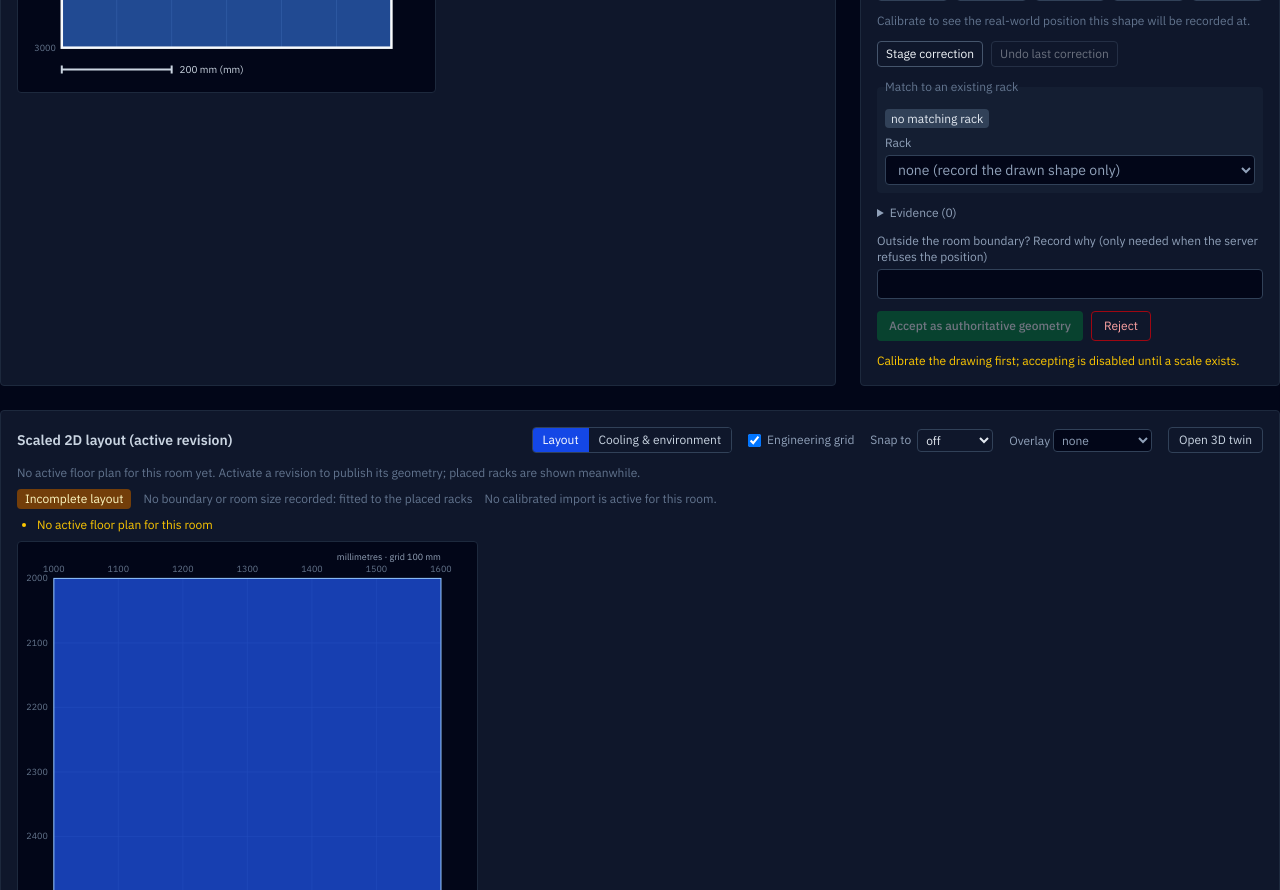
Scenario: RoomFloorPlanPage workflow › switches the 2D plan to an operational overlay and links to the 3D twin for this room
(page scrolled)
Select "Power" in the dropdown named "Operational overlay": (1102, 440) [1053,428,1152,452]
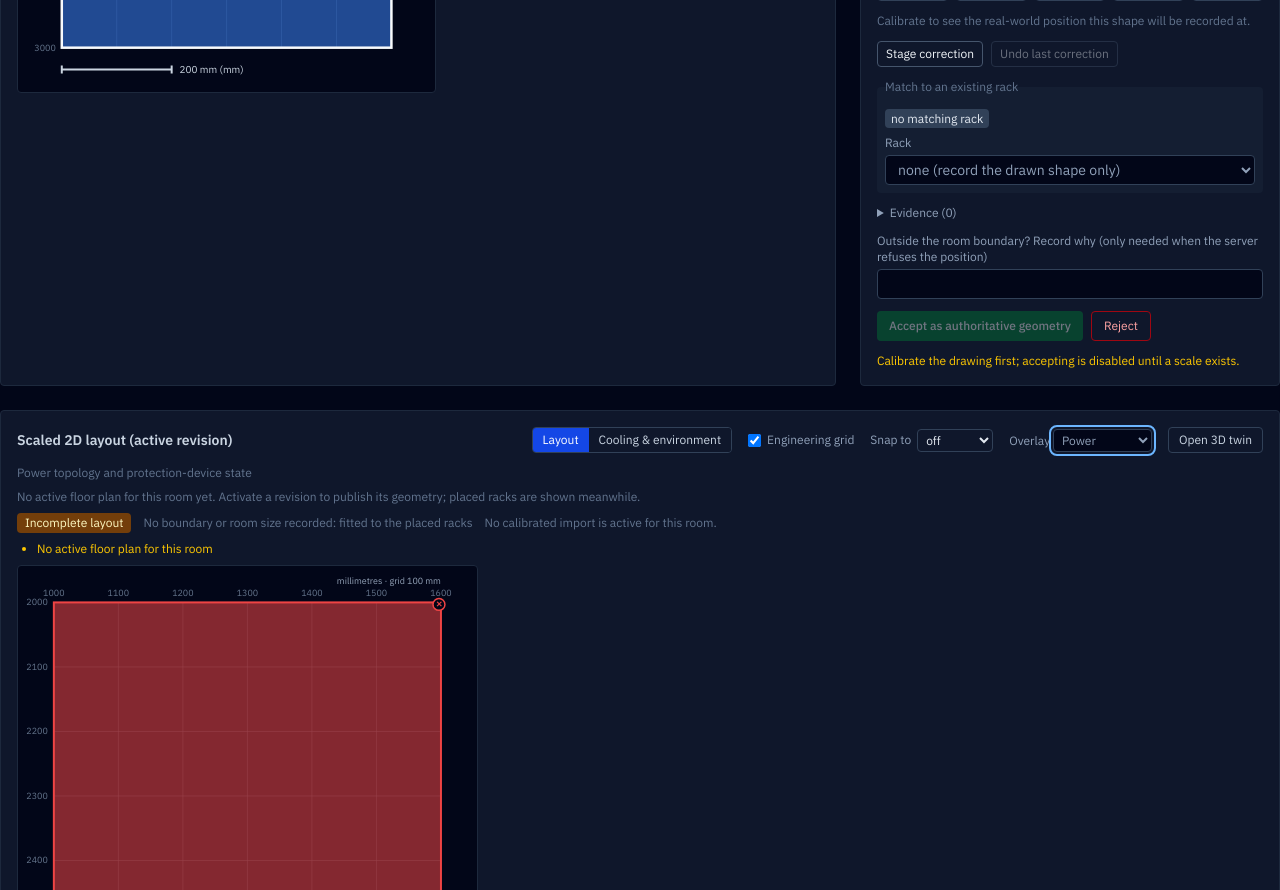
Expected: the text with test id "overlay-source" reads "Power topology and protection-device state", [17,465,252,480]
